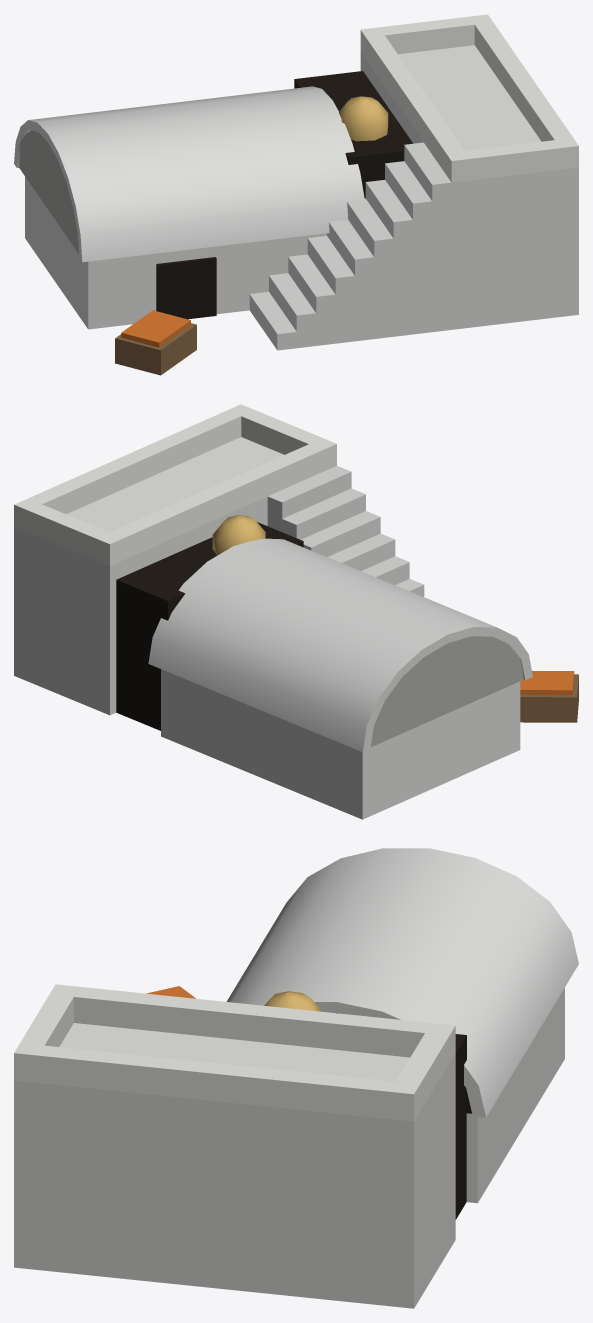
Rendered from VerHut05.glb.
The picture shows the model from 3 angles, top to bottom: view 1: azimuth 30°, elevation 25°; view 2: azimuth 150°, elevation 25°; view 3: azimuth 270°, elevation 25°; orthographic projection. The views are drawn at different scales.
Parts seen in each view (by area): view 1: VerHut05_plaster; view 2: VerHut05_plaster; view 3: VerHut05_plaster.
Part boxes in pixels (left/top/right/bottom): VerHut05_plaster: left=14, top=14, right=578, bottom=375; VerHut05_plaster: left=14, top=404, right=578, bottom=819; VerHut05_plaster: left=14, top=848, right=578, bottom=1308.
Bounding box in the file's own units: 6.08 × 2.12 × 5.05.
